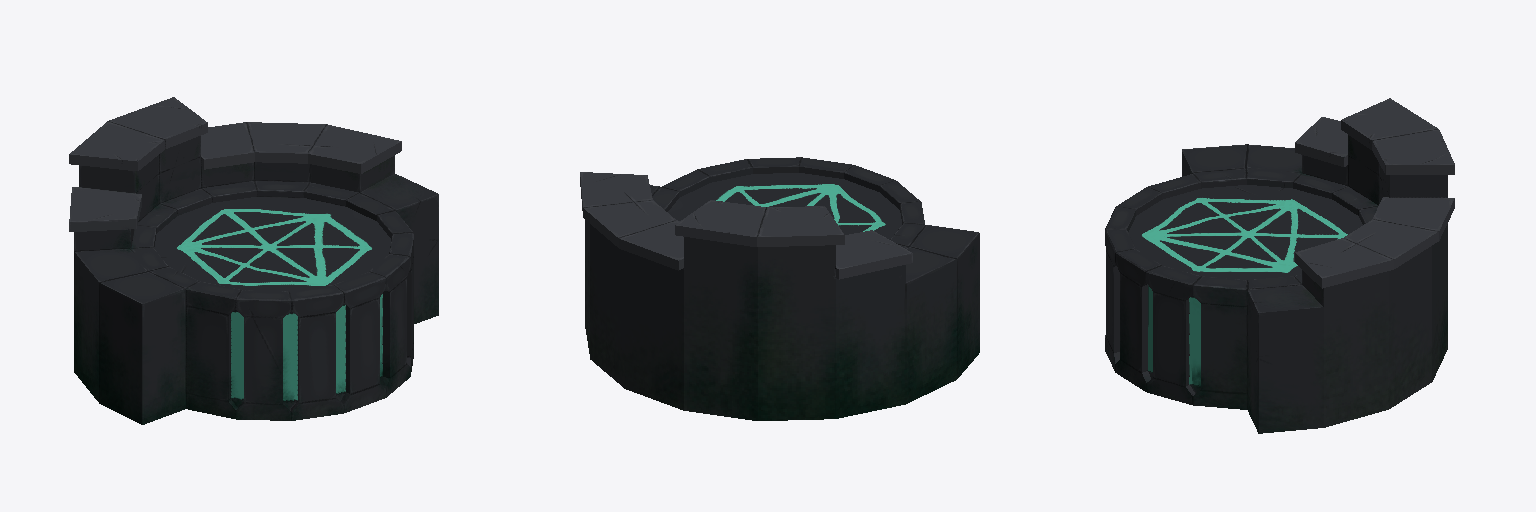
3 views of the same model, side by side, from view 1: azimuth 30°, elevation 25°; view 2: azimuth 150°, elevation 25°; view 3: azimuth 270°, elevation 25° (orthographic).
Parts seen in each view (by area): view 1: magic_table_Cylinder.001; view 2: magic_table_Cylinder.001; view 3: magic_table_Cylinder.001.
Part boxes in pixels (bbox=[...]): magic_table_Cylinder.001: bbox=[69, 97, 438, 424]; magic_table_Cylinder.001: bbox=[580, 157, 979, 420]; magic_table_Cylinder.001: bbox=[1105, 98, 1454, 433].
Size of the model in its own units: 2.1 by 1.08 by 1.84.
1 materials, 1 textured.